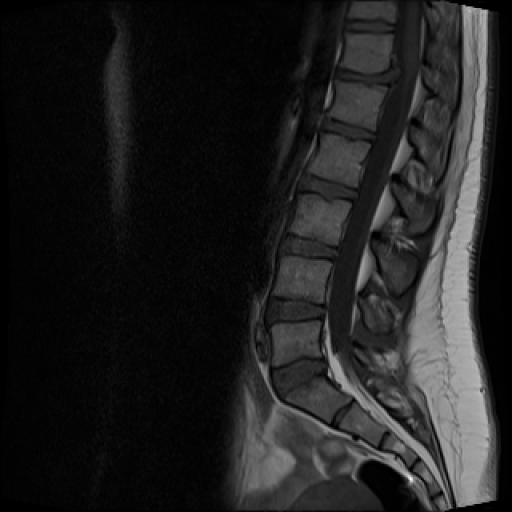L1: (328, 81, 388, 130)
L2: (307, 133, 371, 188)
L3: (288, 195, 352, 244)
L4: (273, 257, 332, 302)
L5: (272, 321, 322, 366)
S1: (287, 376, 351, 424)
